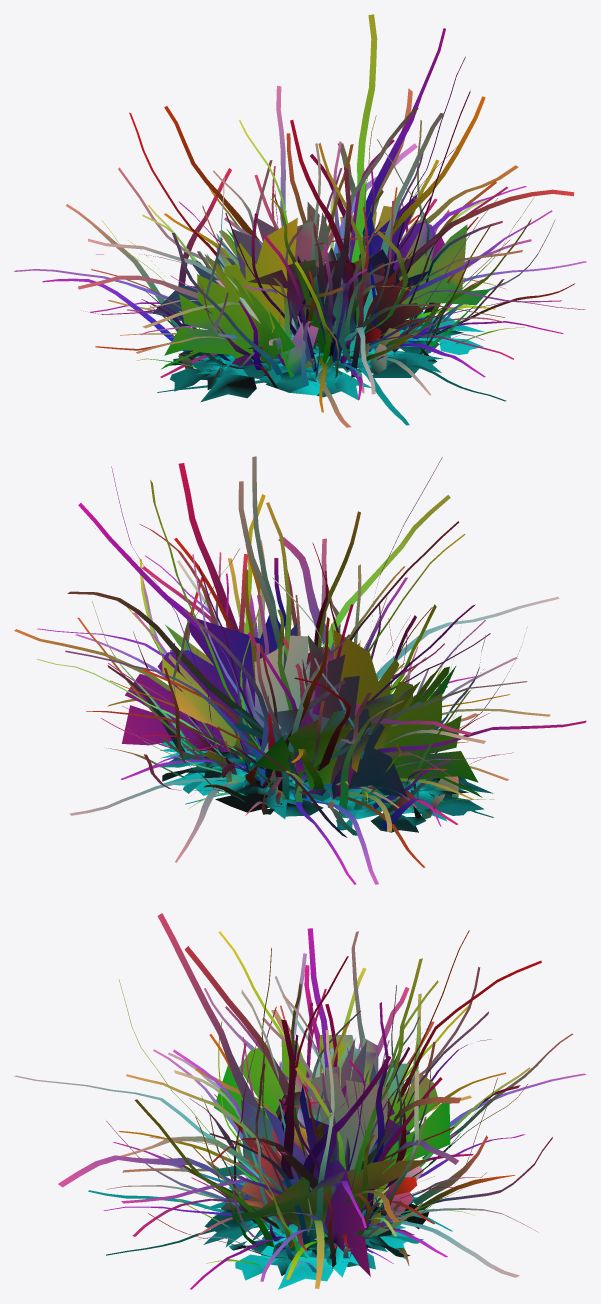
Rendered from Wild_Grass_vczndjqja_Mid_vczndjqja_VarA_LOD0.fbx.
3 views of the same model, one above another, from view 1: azimuth 30°, elevation 25°; view 2: azimuth 150°, elevation 25°; view 3: azimuth 270°, elevation 25° (orthographic). The views are drawn at different scales.
Visible parts, largest first — view 1: _ia12_VarA_LOD1; view 2: _ia12_VarA_LOD1; view 3: _ia12_VarA_LOD1.
Boxes of the visible parts, <box> form: _ia12_VarA_LOD1: <box>14,14,586,427</box>; _ia12_VarA_LOD1: <box>14,456,586,884</box>; _ia12_VarA_LOD1: <box>14,913,586,1289</box>.
Bounding box in the file's own units: 158 × 90.24 × 149.
